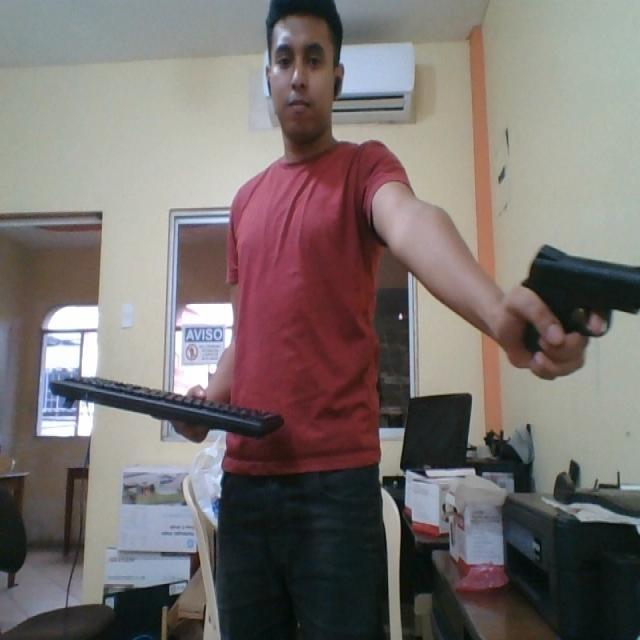weapon: (511, 243, 640, 365)
